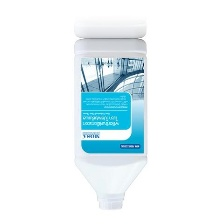cleaning_solution: (69, 33, 151, 212)
